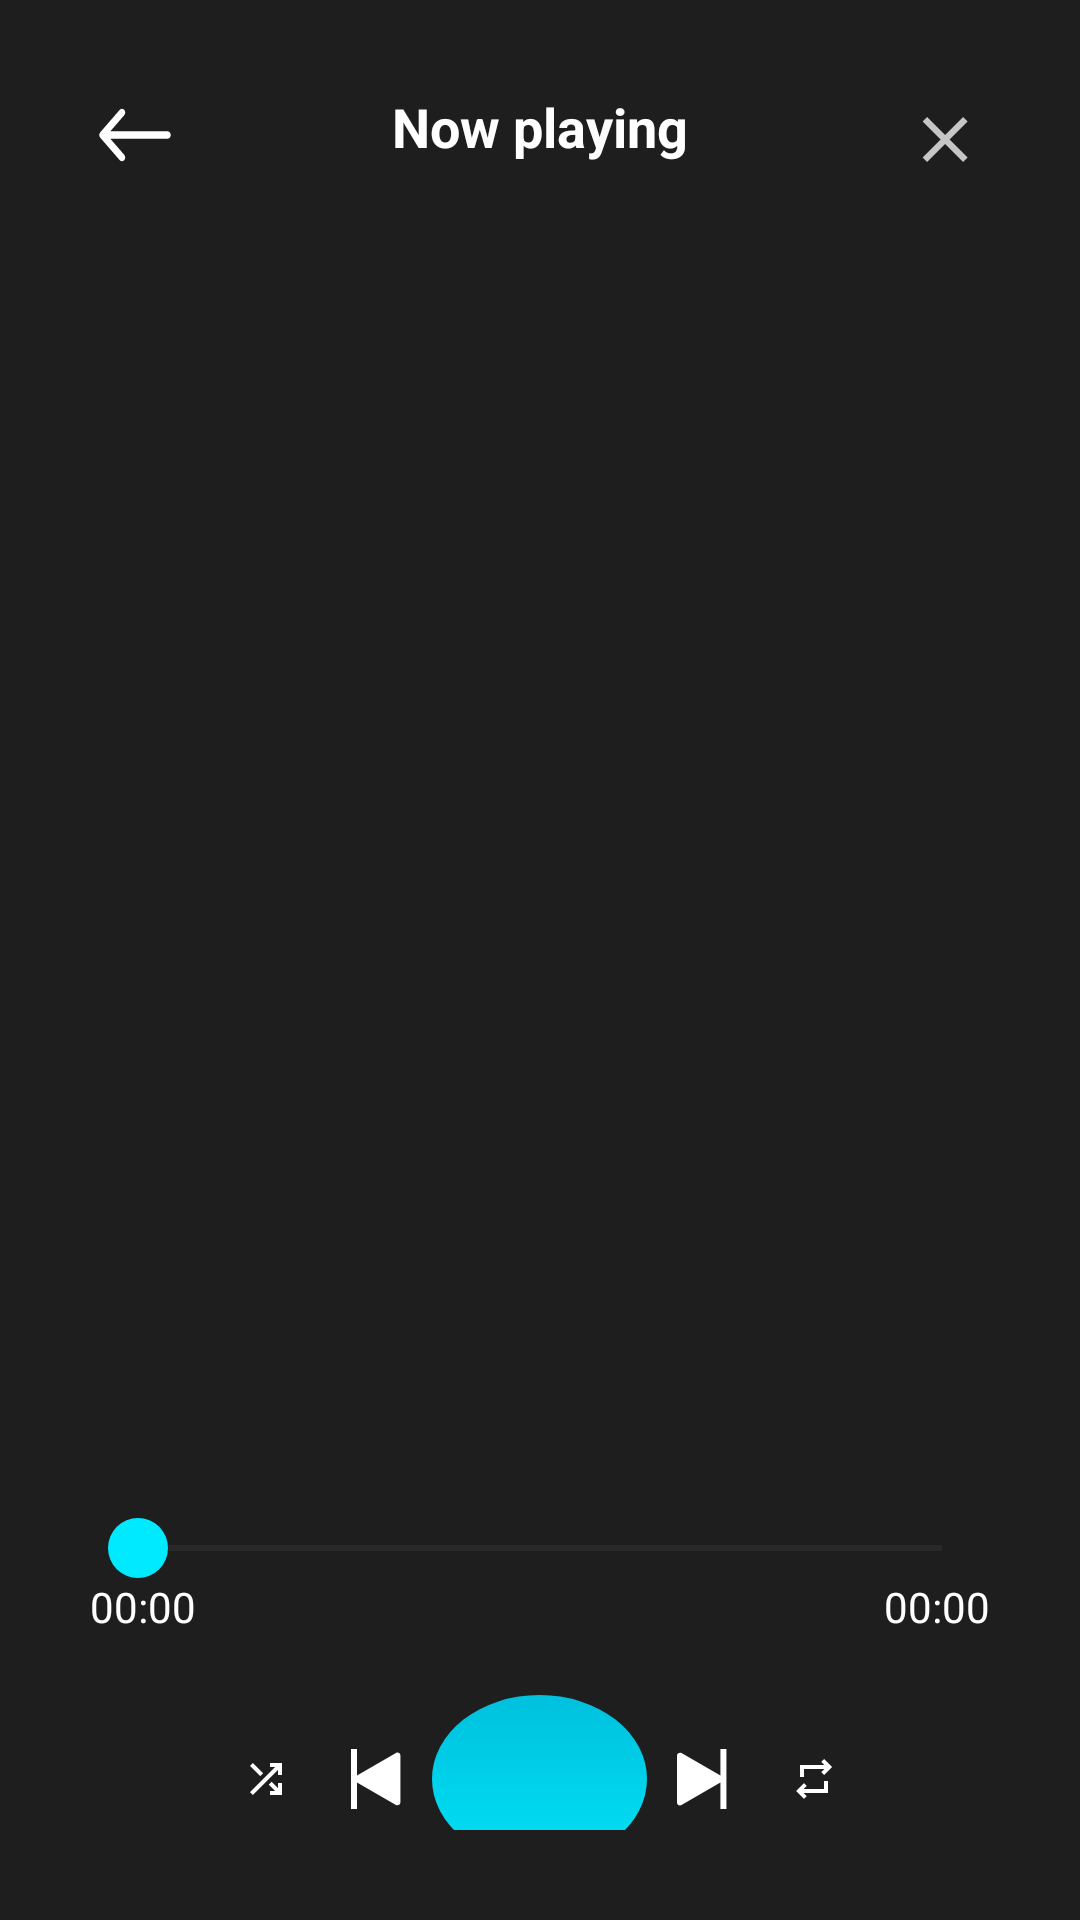

Screen size 1080x1920. Icon name, then its center in pixels as [x,y]:
back: [135,135]
close: [945,139]
mback: [376,1779]
mnext: [702,1779]
repeat: [814,1779]
shuffle: [266,1779]
